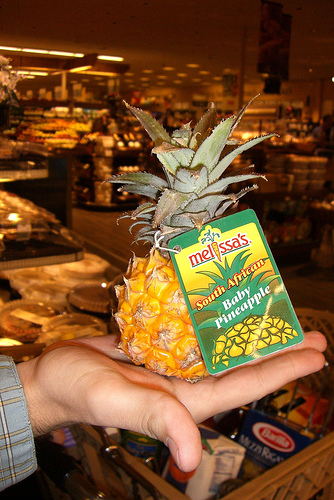pineapple: (102, 96, 281, 385)
